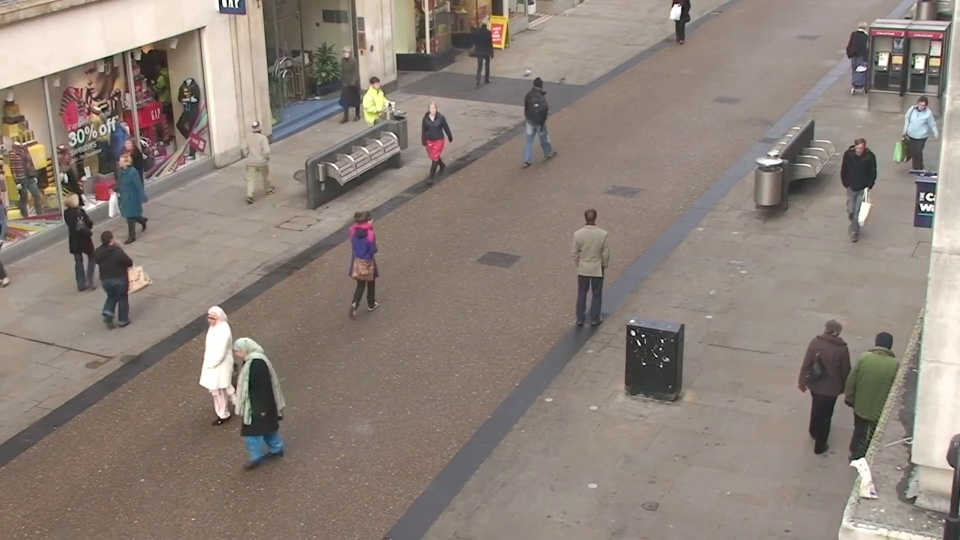pedestrian: (850, 320, 910, 472), (209, 333, 268, 483), (806, 306, 862, 453), (181, 300, 238, 441), (95, 218, 147, 338), (62, 188, 114, 300), (350, 196, 391, 313), (99, 151, 145, 254), (573, 204, 611, 324), (833, 137, 875, 240), (893, 97, 938, 192), (107, 136, 150, 234), (247, 111, 282, 204), (414, 96, 445, 186), (363, 74, 393, 157), (845, 18, 878, 93), (531, 73, 559, 158), (328, 48, 357, 123), (476, 12, 500, 78)
